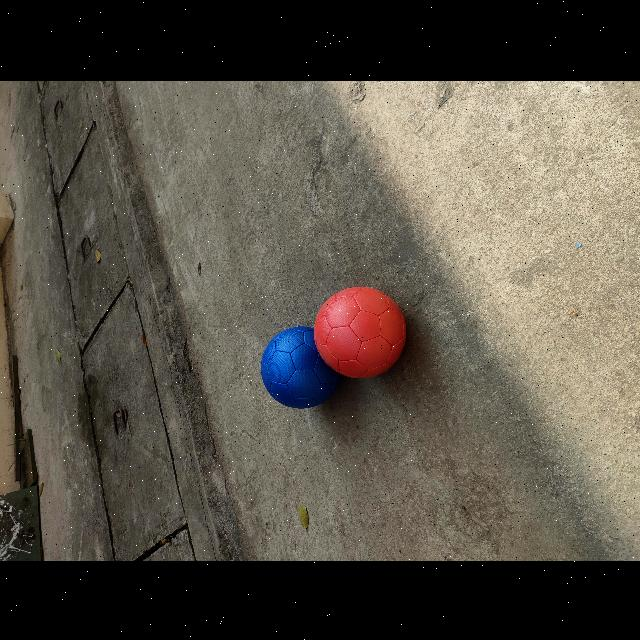B: (261, 326, 341, 408)
R: (314, 285, 406, 376)
